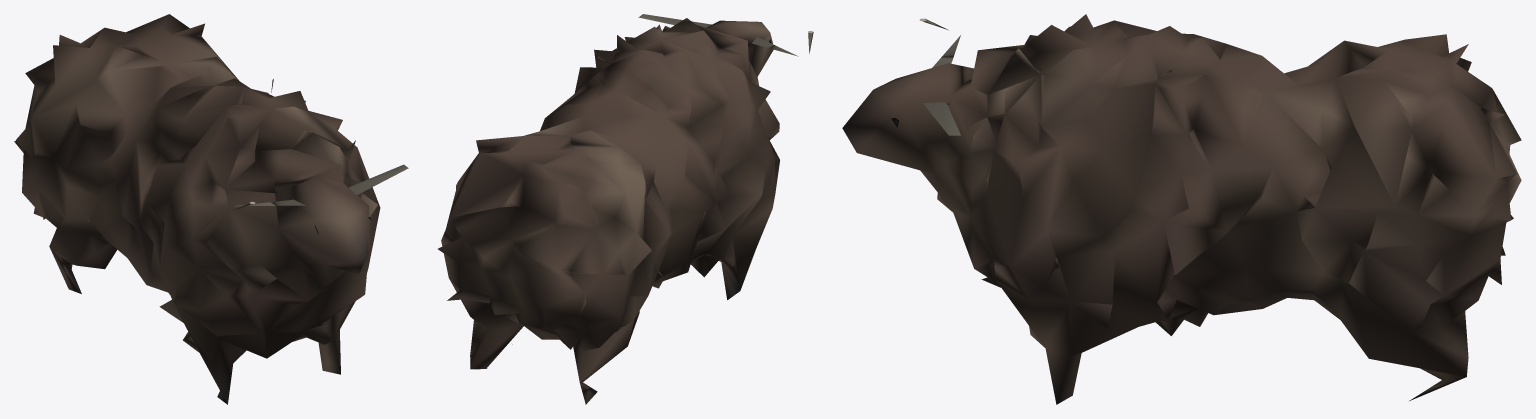
File: moschusochse.glb
The picture shows the model from 3 angles, left to right: view 1: azimuth 30°, elevation 25°; view 2: azimuth 150°, elevation 25°; view 3: azimuth 270°, elevation 25°; orthographic projection. The views are drawn at different scales.
Parts seen in each view (by area): view 1: lack; view 2: lack; view 3: lack.
Boxes of the visible parts, x1=… form: lack: x1=14, y1=14, x2=408, y2=404; lack: x1=438, y1=14, x2=813, y2=404; lack: x1=842, y1=14, x2=1521, y2=404.
Size of the model in its own units: 1.12 by 1.43 by 2.62.
